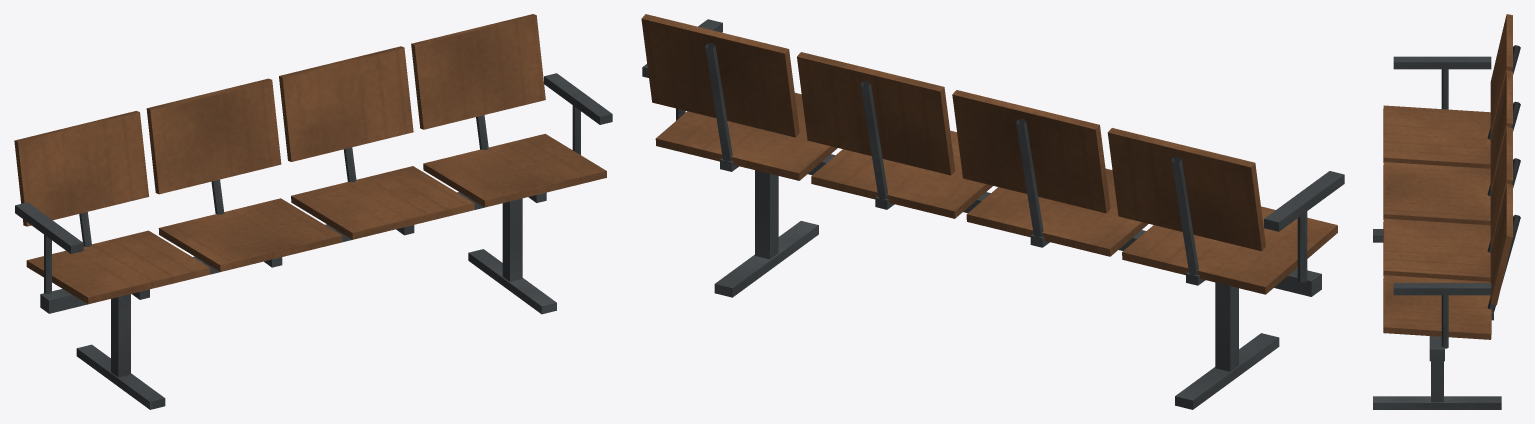
The model's file is Bench_Waiting.fbx.
3 views of the same model, side by side, from view 1: azimuth 30°, elevation 25°; view 2: azimuth 150°, elevation 25°; view 3: azimuth 270°, elevation 25° (orthographic). The views are drawn at different scales.
Visible parts, largest first — view 1: скамейка в коридор; view 2: скамейка в коридор; view 3: скамейка в коридор.
Boxes of the visible parts, x1=… form: скамейка в коридор: x1=14, y1=14, x2=612, y2=409; скамейка в коридор: x1=641, y1=14, x2=1344, y2=409; скамейка в коридор: x1=1373, y1=14, x2=1520, y2=409.
Bounding box in the file's own units: 2.14 × 0.8493 × 0.5745.
Materials: 1 (1 with a texture image).
